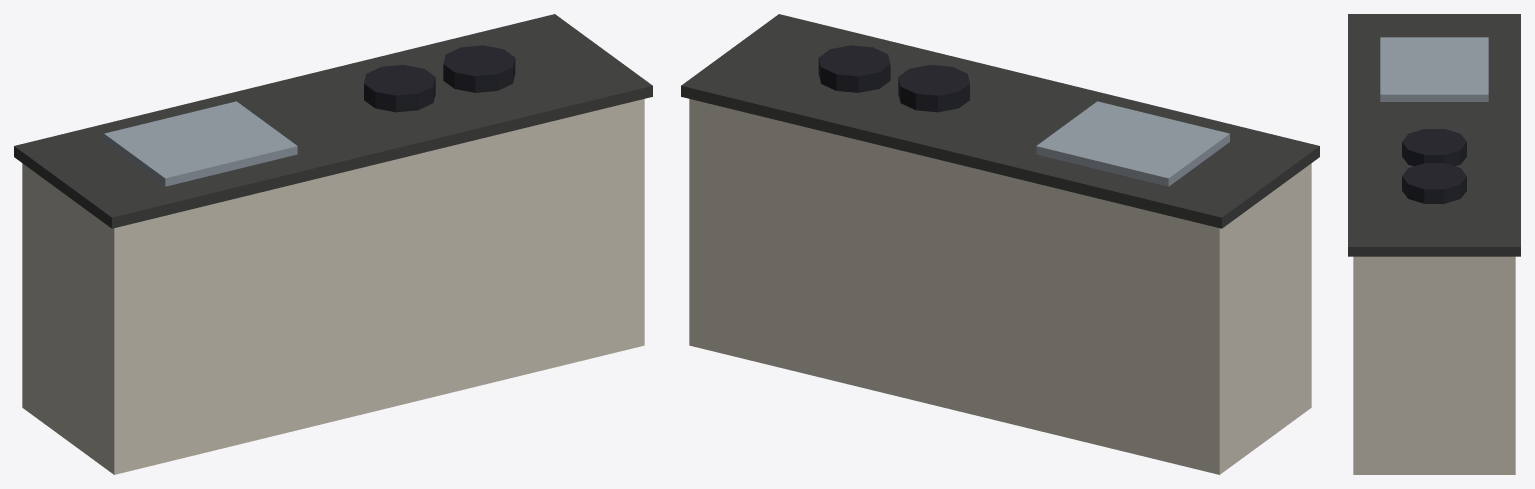
File: kitchenCounter.glb
3 renders of one model, left to right at view 1: azimuth 30°, elevation 25°; view 2: azimuth 150°, elevation 25°; view 3: azimuth 270°, elevation 25°, orthographic. The views are drawn at different scales.
Visible parts, largest first — view 1: kitchenCounter-d9d3c4, kitchenCounter-40403f, kitchenCounter-9aa3ad, kitchenCounter-22232a; view 2: kitchenCounter-d9d3c4, kitchenCounter-40403f, kitchenCounter-9aa3ad, kitchenCounter-22232a; view 3: kitchenCounter-d9d3c4, kitchenCounter-40403f, kitchenCounter-9aa3ad, kitchenCounter-22232a.
Part boxes in pixels (x1,y1,x2,y2): kitchenCounter-d9d3c4: [22, 99, 644, 474]; kitchenCounter-40403f: [14, 14, 652, 228]; kitchenCounter-9aa3ad: [104, 101, 297, 186]; kitchenCounter-22232a: [364, 45, 515, 112]; kitchenCounter-d9d3c4: [689, 99, 1311, 474]; kitchenCounter-40403f: [681, 14, 1319, 228]; kitchenCounter-9aa3ad: [1036, 101, 1229, 186]; kitchenCounter-22232a: [818, 45, 969, 112]; kitchenCounter-d9d3c4: [1353, 256, 1515, 474]; kitchenCounter-40403f: [1348, 14, 1520, 256]; kitchenCounter-9aa3ad: [1380, 37, 1488, 101]; kitchenCounter-22232a: [1402, 129, 1466, 203].
Bounding box in the file's own units: 2.04 × 1.01 × 0.64.
